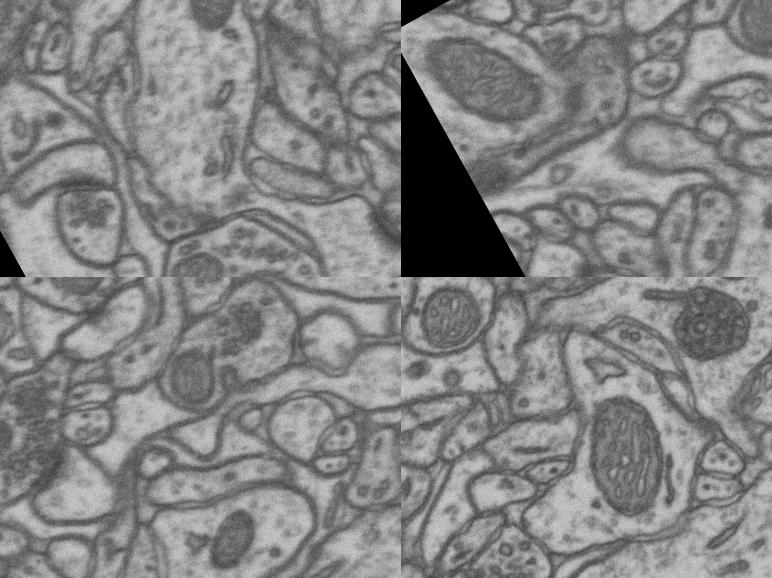mitochondria: (405, 0, 567, 163), (555, 391, 700, 547), (149, 304, 244, 401), (401, 277, 508, 354), (185, 517, 267, 578), (145, 230, 247, 277), (163, 0, 269, 42), (401, 475, 442, 578), (716, 0, 772, 62), (501, 0, 600, 35), (0, 277, 33, 374), (40, 277, 131, 299), (752, 178, 772, 260)
